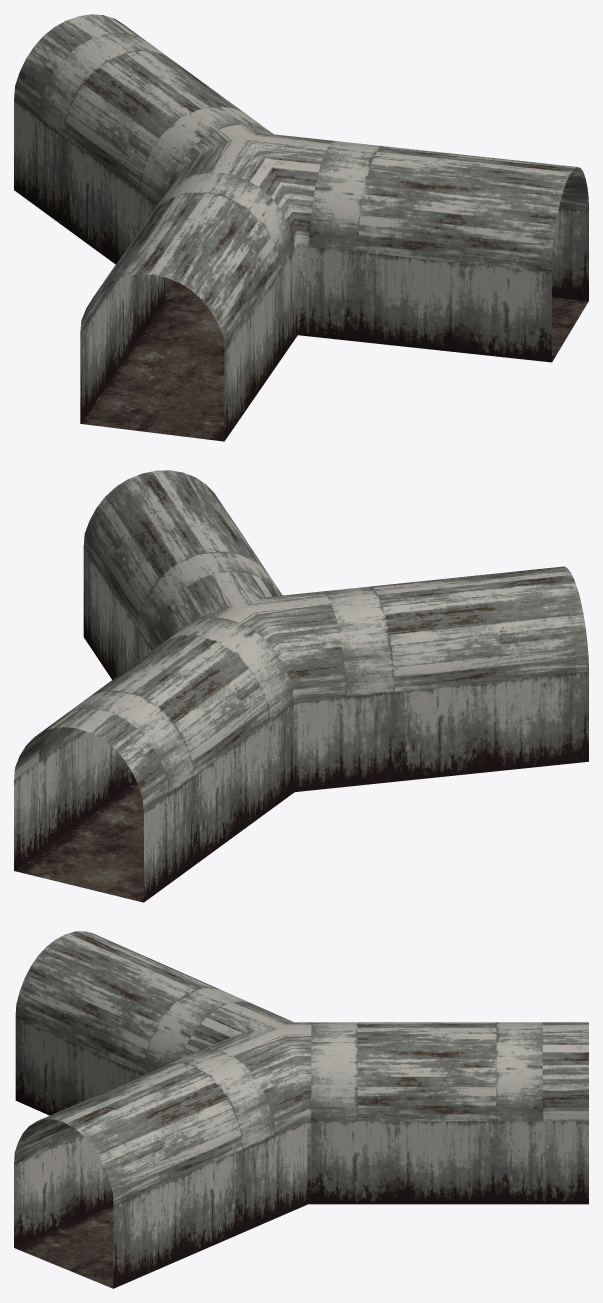
The model's file is SM_EC_ContreteTunnel_Y_0.fbx.
3 renders of one model, top to bottom at view 1: azimuth 30°, elevation 25°; view 2: azimuth 150°, elevation 25°; view 3: azimuth 270°, elevation 25°, orthographic. The views are drawn at different scales.
Visible parts, largest first — view 1: SM_EC_ContreteTunnel_Y_0; view 2: SM_EC_ContreteTunnel_Y_0; view 3: SM_EC_ContreteTunnel_Y_0.
Part boxes in pixels (x1,y1,x2,y2): SM_EC_ContreteTunnel_Y_0: (14,14,588,441); SM_EC_ContreteTunnel_Y_0: (14,470,588,902); SM_EC_ContreteTunnel_Y_0: (14,931,588,1288).
Bounding box in the file's own units: 11.7 × 12.43 × 3.48.
